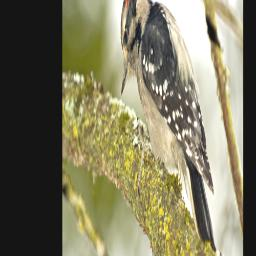Woodpecker: (120, 0, 224, 256)
